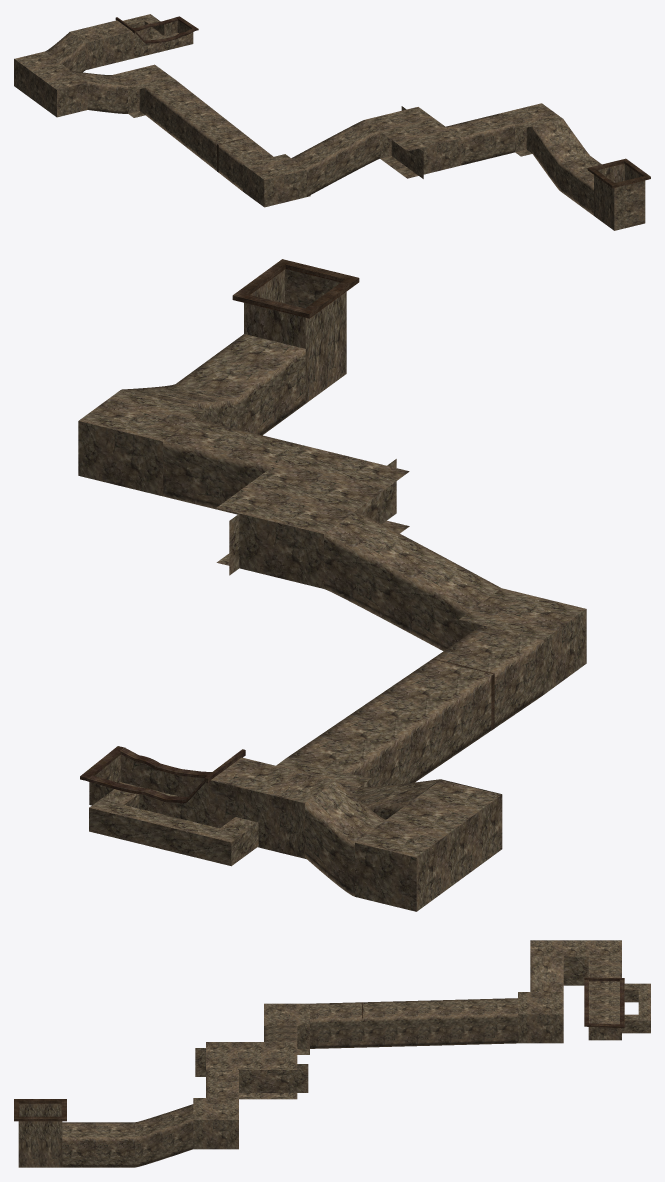
The model's file is glass-terrain-cave.obj.
3 renders of one model, top to bottom at view 1: azimuth 30°, elevation 25°; view 2: azimuth 150°, elevation 25°; view 3: azimuth 270°, elevation 25°, orthographic. The views are drawn at different scales.
Visible parts, largest first — view 1: entity0_patch13, entity0_patch14, entity0_patch15, entity0_patch77, entity0_patch16, entity0_patch12, entity0_patch27, entity0_patch39, entity0_patch1, entity0_patch52, entity0_patch78, entity0_patch48 (+13 smaller); view 2: entity0_patch13, entity0_patch14, entity0_patch77, entity0_patch15, entity0_patch27, entity0_patch52, entity0_patch11, entity0_patch48, entity0_patch64, entity0_patch71, entity0_patch63, entity0_patch76 (+16 smaller); view 3: entity0_patch13, entity0_patch27, entity0_patch16, entity0_patch77, entity0_patch41, entity0_patch66, entity0_patch52, entity0_patch56, entity0_patch74, entity0_patch3, entity0_patch12, entity0_patch58 (+11 smaller).
Boxes of the visible parts, x1=… form: entity0_patch13: x1=145, y1=80, x2=273, y2=191; entity0_patch14: x1=291, y1=120, x2=379, y2=196; entity0_patch15: x1=446, y1=113, x2=514, y2=165; entity0_patch77: x1=365, y1=107, x2=460, y2=151; entity0_patch16: x1=532, y1=119, x2=589, y2=190; entity0_patch12: x1=72, y1=71, x2=127, y2=113; entity0_patch27: x1=559, y1=156, x2=601, y2=215; entity0_patch39: x1=614, y1=180, x2=645, y2=230; entity0_patch1: x1=85, y1=31, x2=133, y2=70; entity0_patch52: x1=15, y1=51, x2=86, y2=89; entity0_patch78: x1=264, y1=169, x2=310, y2=207; entity0_patch48: x1=14, y1=59, x2=56, y2=117; entity0_patch13: x1=287, y1=625, x2=543, y2=787; entity0_patch14: x1=324, y1=511, x2=501, y2=651; entity0_patch77: x1=216, y1=445, x2=409, y2=533; entity0_patch15: x1=163, y1=419, x2=301, y2=514; entity0_patch27: x1=176, y1=334, x2=305, y2=435; entity0_patch52: x1=355, y1=780, x2=501, y2=857; entity0_patch11: x1=305, y1=780, x2=385, y2=896; entity0_patch48: x1=416, y1=794, x2=502, y2=911; entity0_patch64: x1=239, y1=513, x2=323, y2=588; entity0_patch71: x1=78, y1=421, x2=162, y2=496; entity0_patch63: x1=459, y1=588, x2=585, y2=640; entity0_patch76: x1=79, y1=389, x2=205, y2=441; entity0_patch13: x1=310, y1=998, x2=517, y2=1048; entity0_patch27: x1=62, y1=1122, x2=134, y2=1167; entity0_patch16: x1=135, y1=1104, x2=193, y2=1167; entity0_patch77: x1=206, y1=1042, x2=297, y2=1069; entity0_patch41: x1=18, y1=1121, x2=62, y2=1167; entity0_patch66: x1=239, y1=1064, x2=308, y2=1092; entity0_patch52: x1=530, y1=940, x2=621, y2=956; entity0_patch56: x1=518, y1=1014, x2=563, y2=1043; entity0_patch74: x1=193, y1=1120, x2=238, y2=1149; entity0_patch3: x1=589, y1=984, x2=619, y2=1024; entity0_patch12: x1=530, y1=956, x2=563, y2=991; entity0_patch58: x1=518, y1=992, x2=563, y2=1014.
Size of the model in its own units: 2149 by 360 by 3156.
